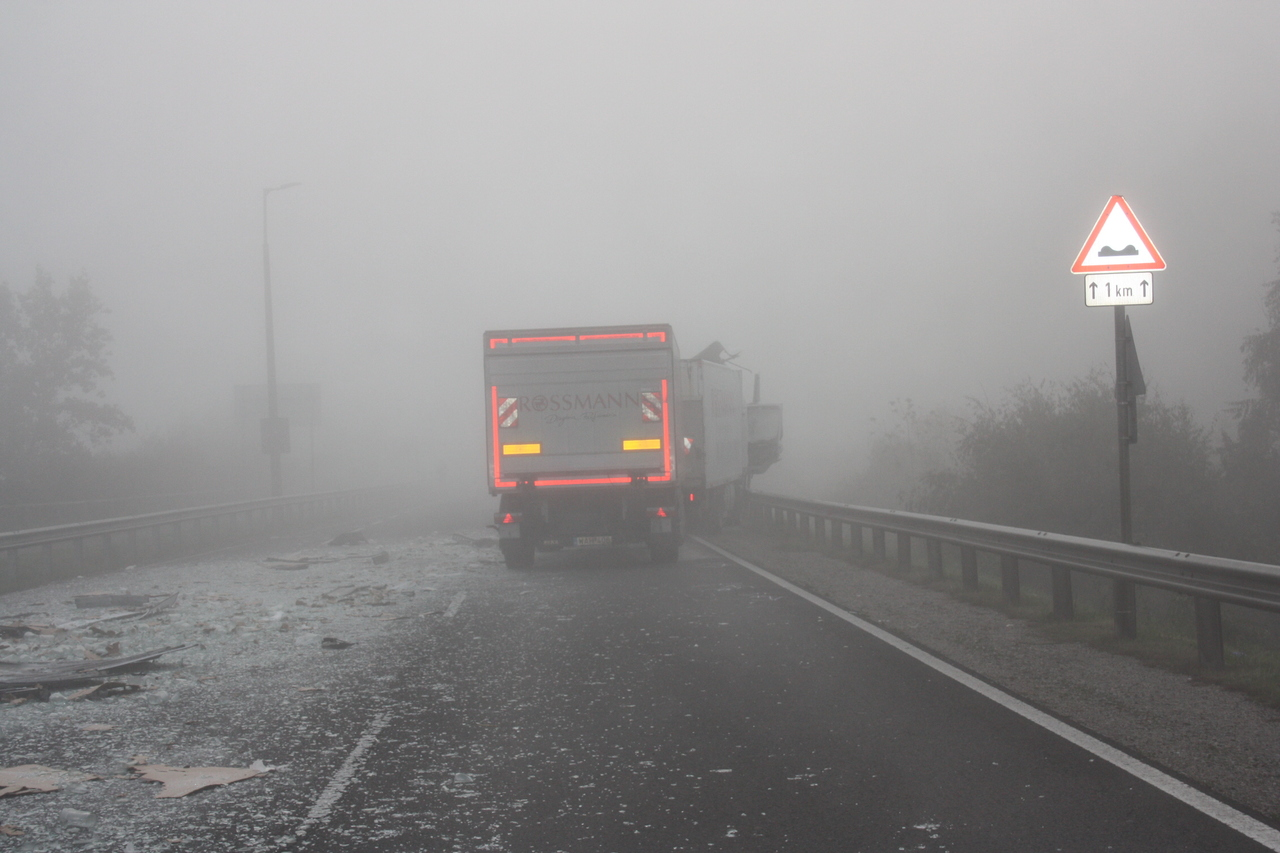truck: (483, 321, 703, 569)
